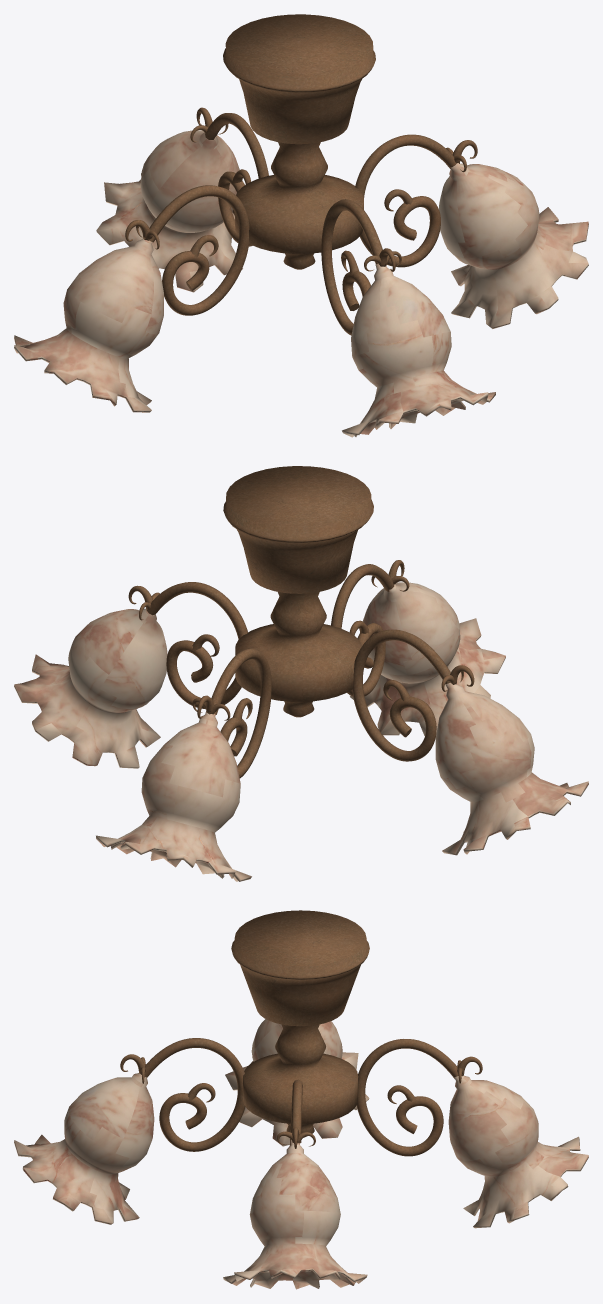
File: LamparaFlores.fbx
The picture shows the model from 3 angles, top to bottom: view 1: azimuth 30°, elevation 25°; view 2: azimuth 150°, elevation 25°; view 3: azimuth 270°, elevation 25°; orthographic projection. The views are drawn at different scales.
Parts seen in each view (by area): view 1: BaseLampara, Lampara1, curva1, lampara4.001, lampara3, lampara2; view 2: BaseLampara, Lampara1, curva1, lampara4.001, lampara2, lampara3; view 3: BaseLampara, lampara3, lampara2, Lampara1, curva1, lampara4.001.
Part boxes in pixels (bbox=[...]): BaseLampara: bbox=[223, 14, 375, 269]; Lampara1: bbox=[439, 163, 588, 328]; curva1: bbox=[125, 107, 477, 335]; lampara4.001: bbox=[14, 238, 163, 412]; lampara3: bbox=[342, 264, 495, 437]; lampara2: bbox=[96, 130, 242, 292]; BaseLampara: bbox=[223, 466, 373, 717]; Lampara1: bbox=[14, 608, 167, 768]; curva1: bbox=[128, 560, 474, 778]; lampara4.001: bbox=[435, 682, 588, 855]; lampara2: bbox=[96, 711, 251, 881]; lampara3: bbox=[350, 582, 505, 735]; BaseLampara: bbox=[231, 910, 369, 1137]; lampara3: bbox=[14, 1073, 154, 1224]; lampara2: bbox=[448, 1075, 588, 1228]; Lampara1: bbox=[223, 1140, 367, 1289]; curva1: bbox=[120, 1038, 482, 1156]; lampara4.001: bbox=[225, 1019, 369, 1146].
Size of the model in its own units: 103 by 55.13 by 103.
